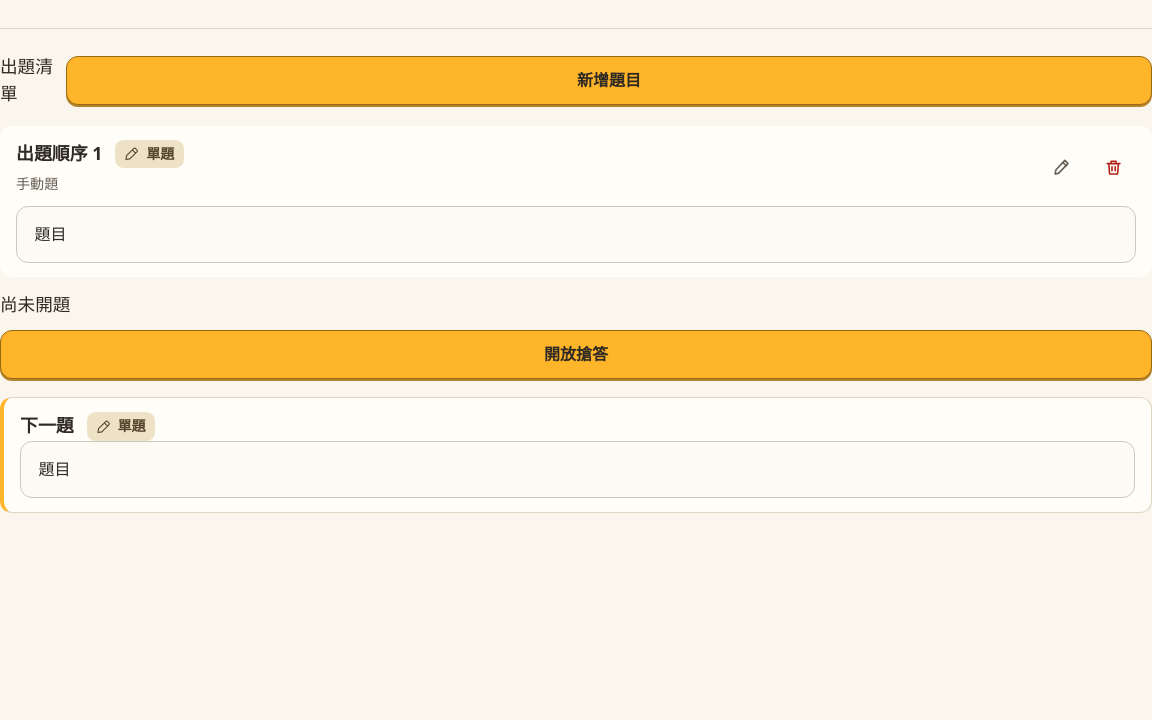
it: 題目寫入回應遺失後只接受本次重新同步，先前完整快照不能解除開題鎖定
Later steps or results of the test are not shown.
Click the button named "刪除題目": (1114, 168) [1092,146,1136,190]
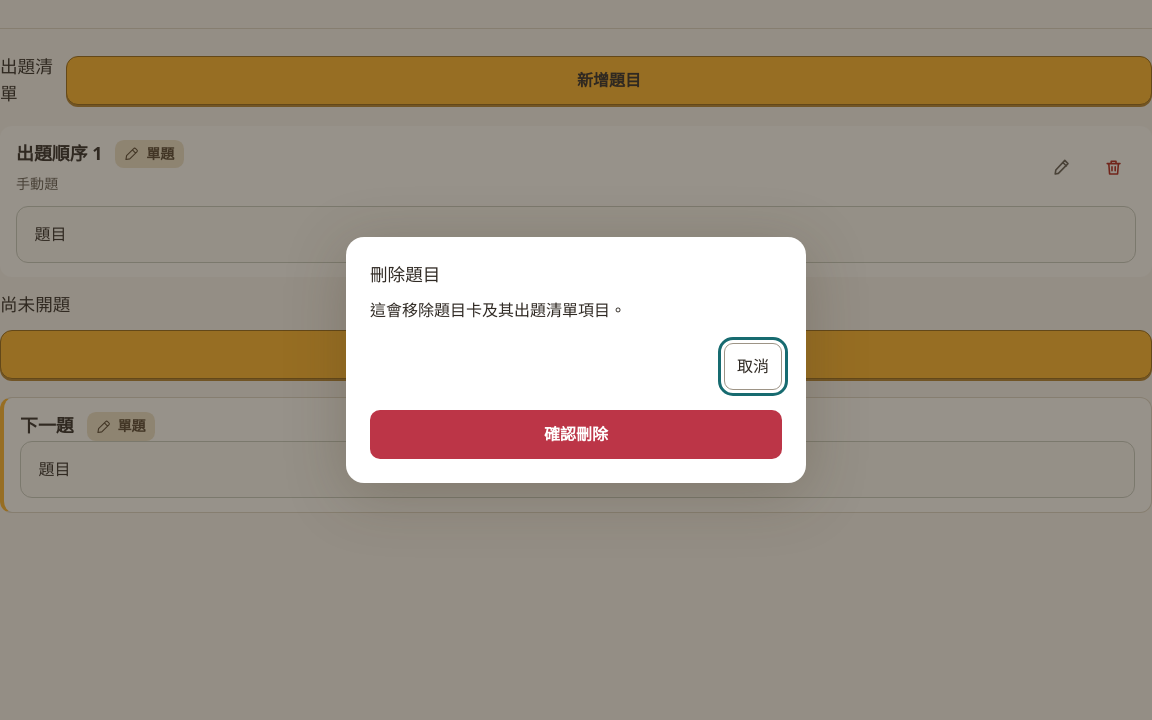
Click the button "確認刪除": (576, 434) [370,410,782,459]
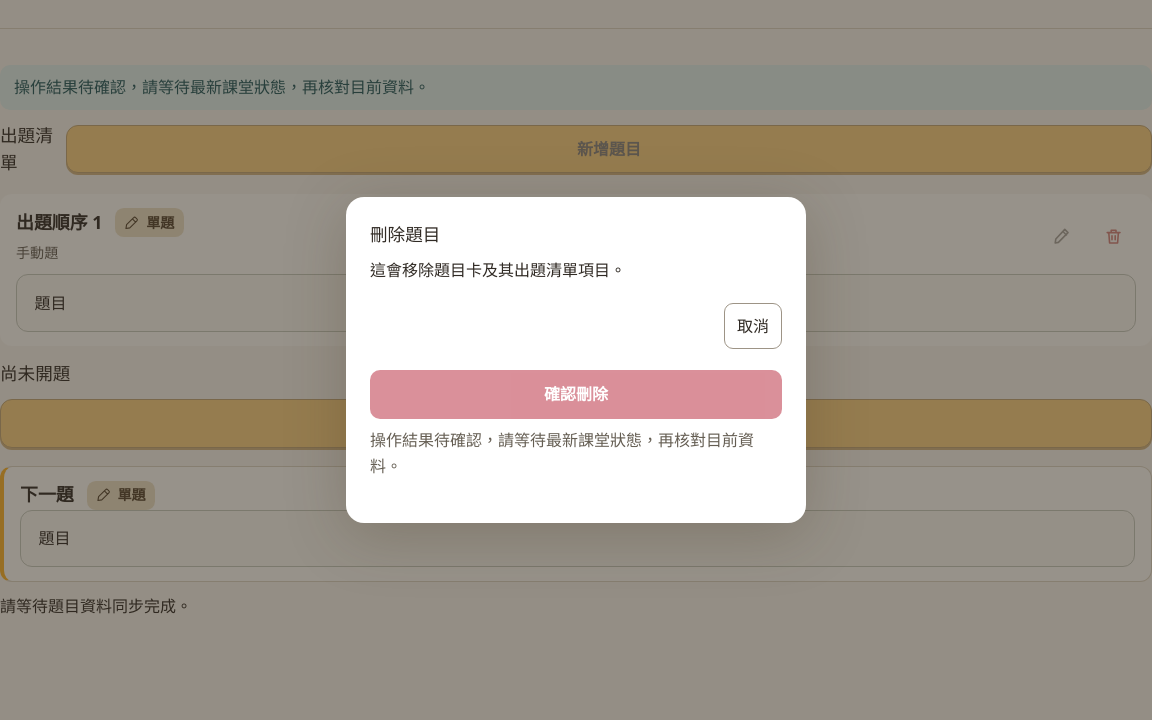
Now the text "操作結果待確認" is shown, box [14,76,430,98]
Now the button "開放搶答" is disabled, box [0,399,1151,448]
